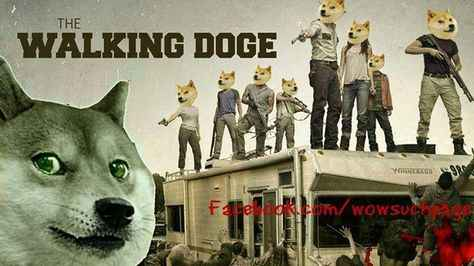doge: (1, 89, 156, 263), (427, 8, 459, 41), (346, 19, 371, 45), (317, 1, 346, 23), (175, 85, 197, 106), (215, 72, 237, 89), (367, 53, 387, 71), (253, 66, 271, 85), (280, 77, 299, 95)
